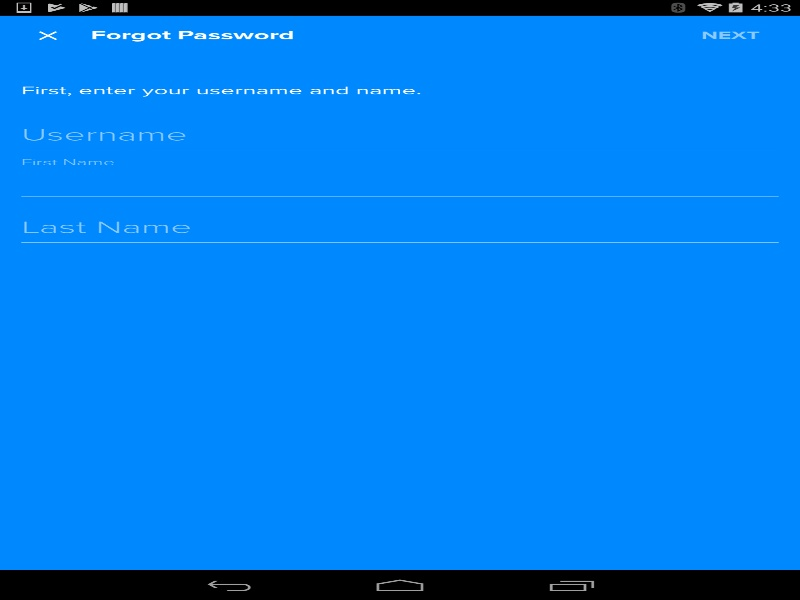Button: (672, 20, 789, 50), (10, 18, 85, 53)
Input: (16, 121, 778, 155), (16, 167, 778, 201), (16, 213, 778, 247)
